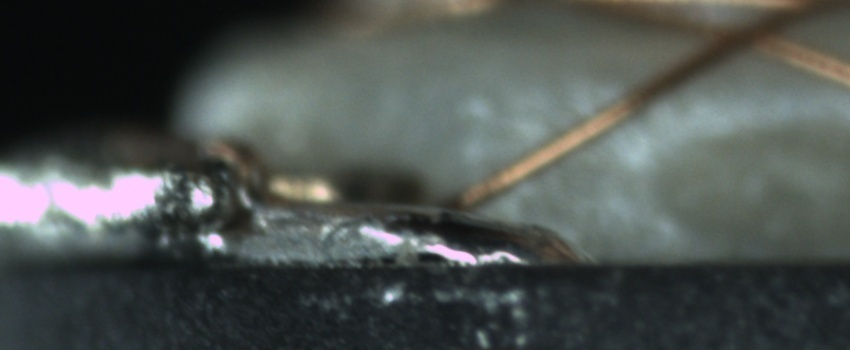TE: (208, 129, 359, 209)
